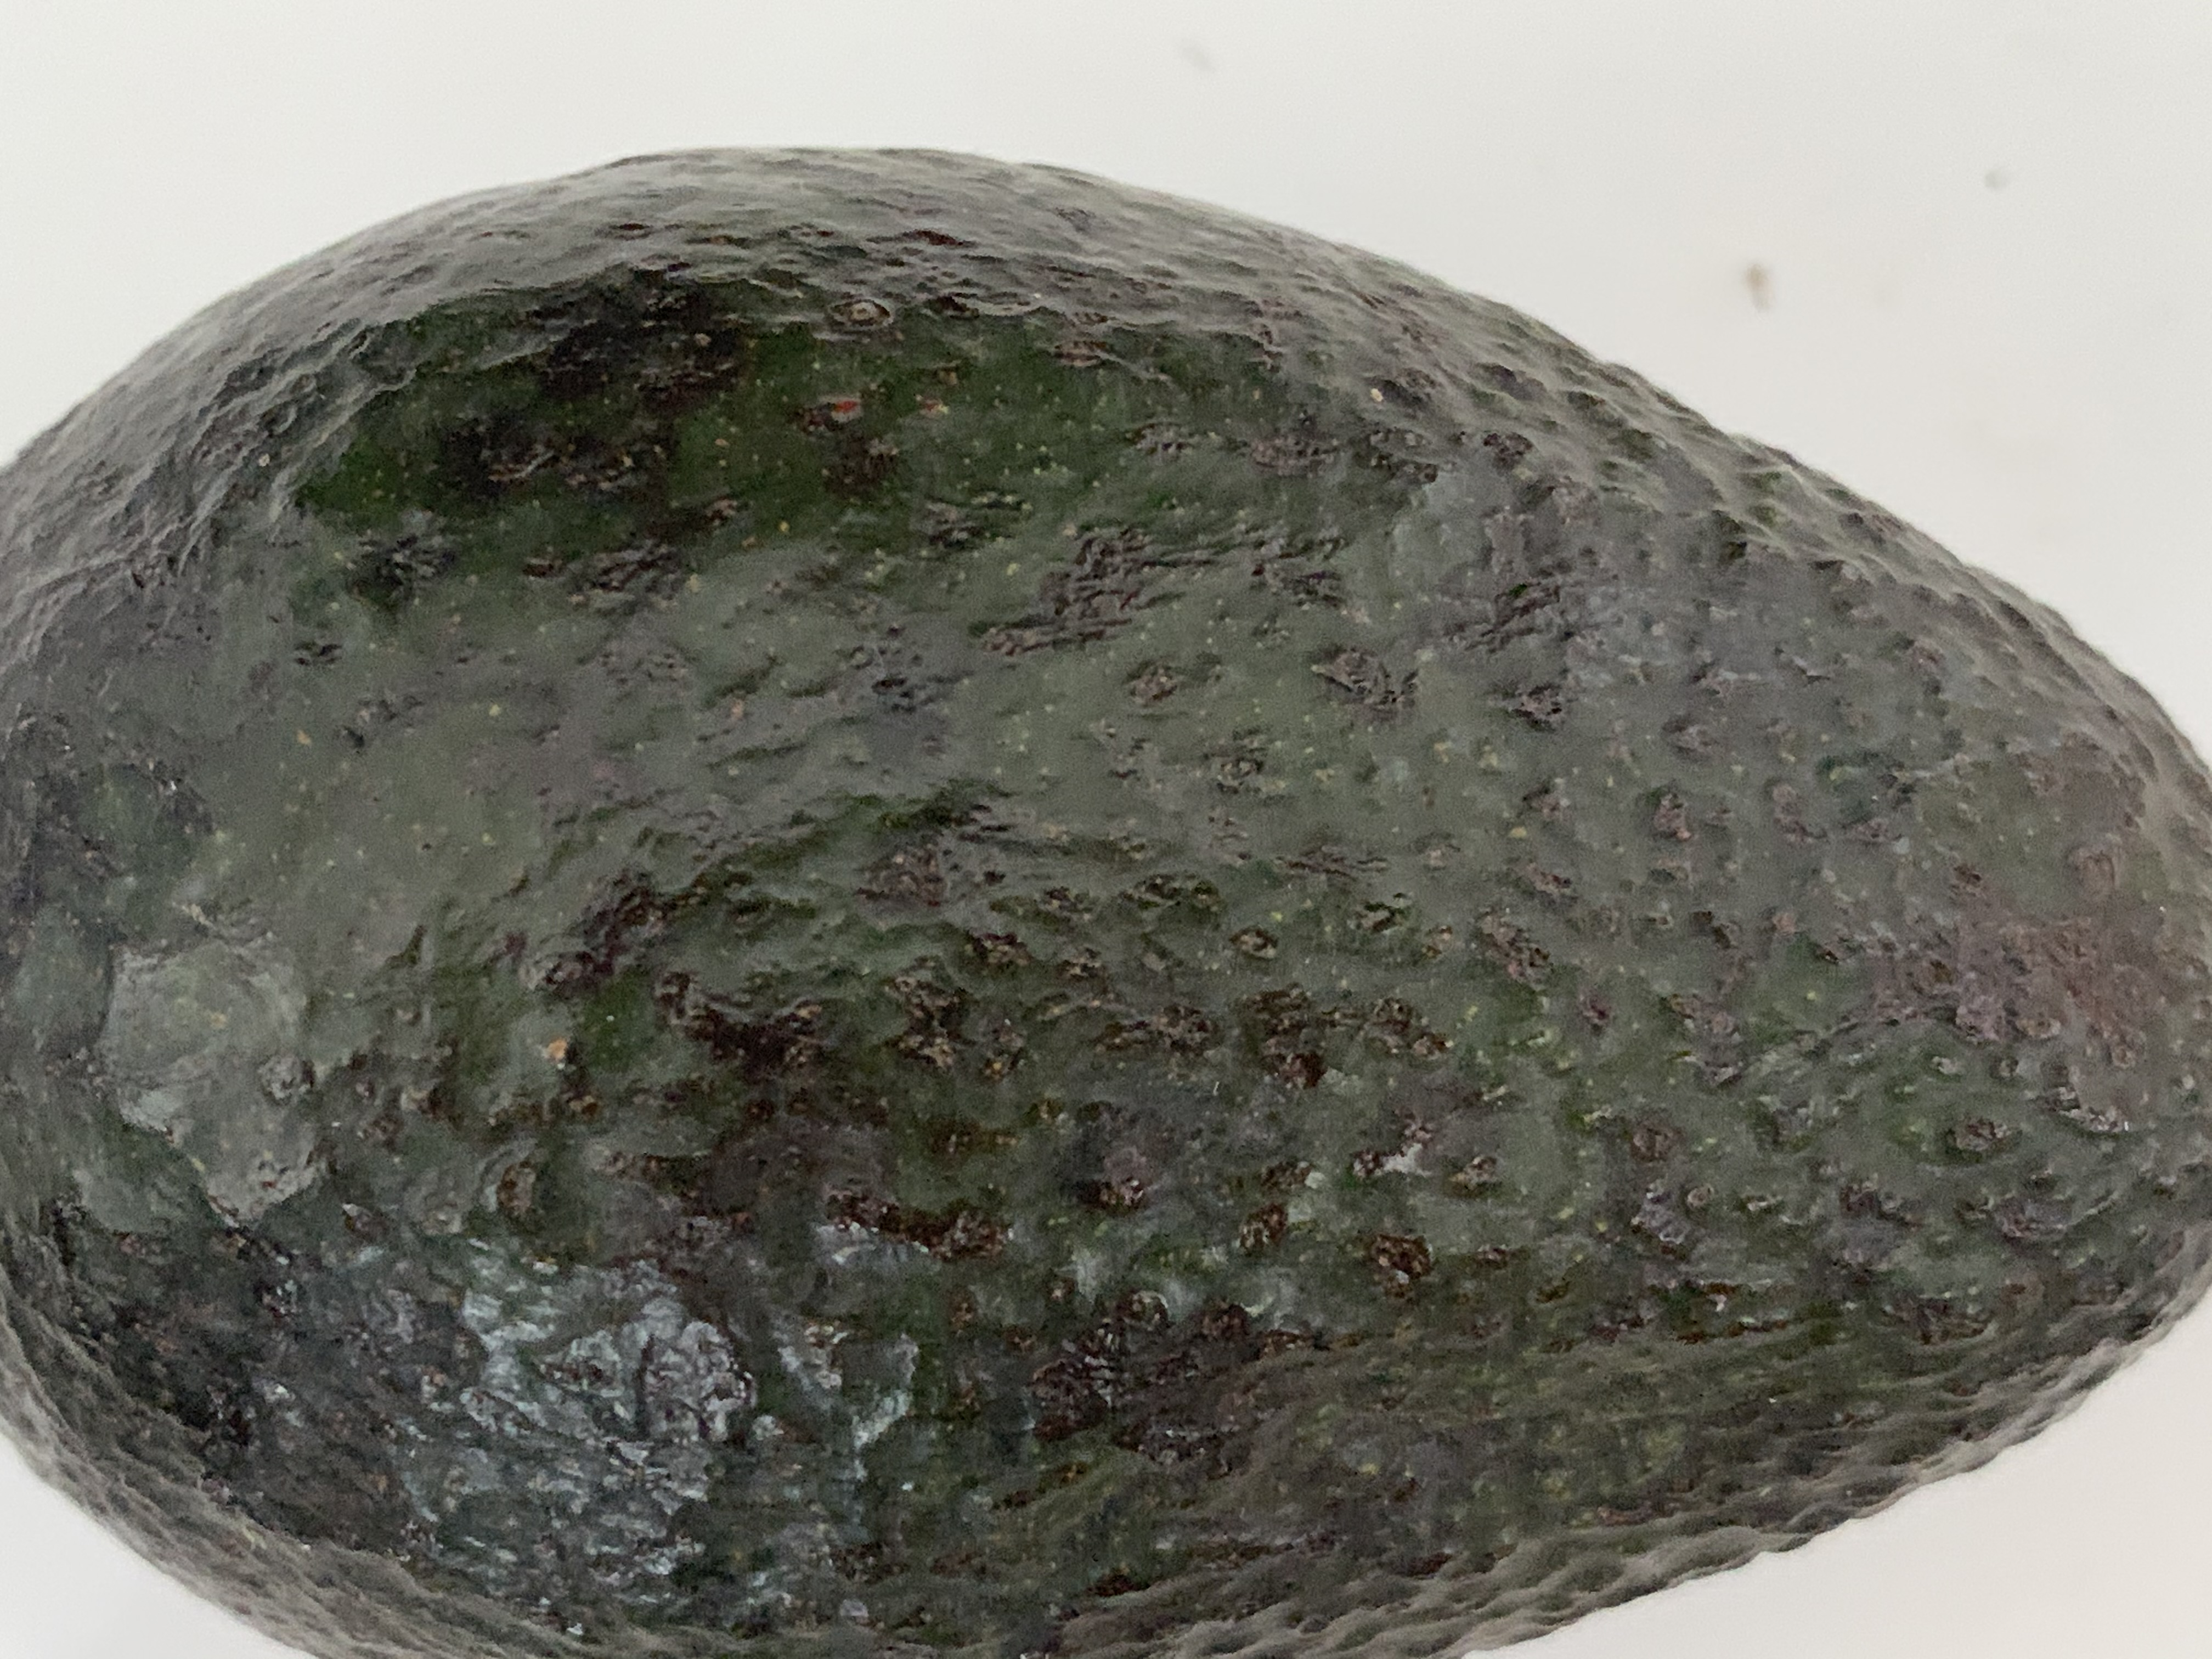avocado: (33, 150, 2212, 1649)
